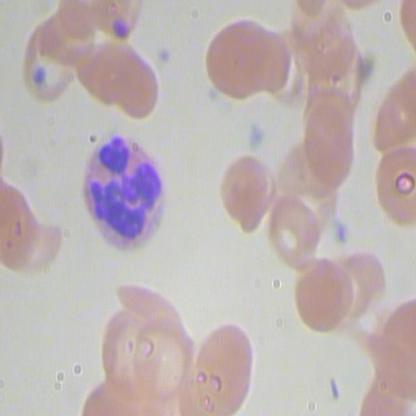Platelets: (110, 13, 131, 48), (244, 123, 267, 151), (332, 219, 354, 247), (33, 67, 45, 87)
RBC: (187, 320, 256, 415), (131, 308, 197, 406), (203, 14, 270, 103), (18, 10, 77, 104), (265, 190, 326, 273), (216, 151, 274, 237), (299, 103, 359, 186), (294, 252, 350, 332), (112, 44, 164, 121), (1, 177, 44, 269)
WBC: (68, 129, 179, 262)
